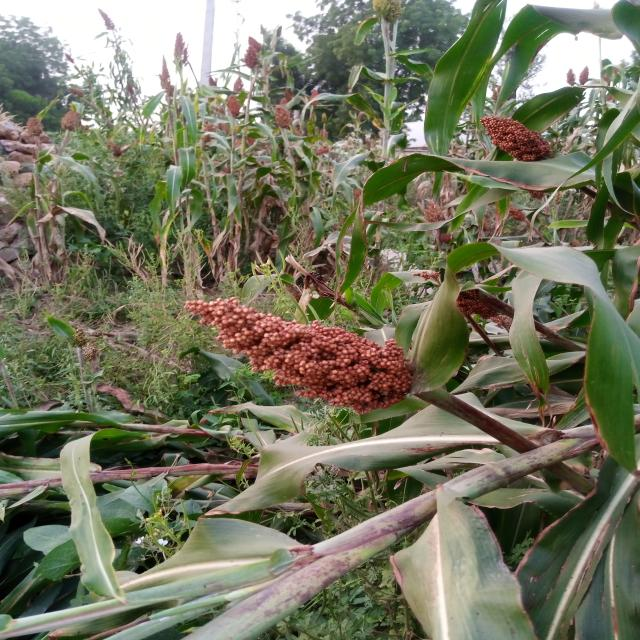RipeSorghum: (141, 282, 467, 418)
